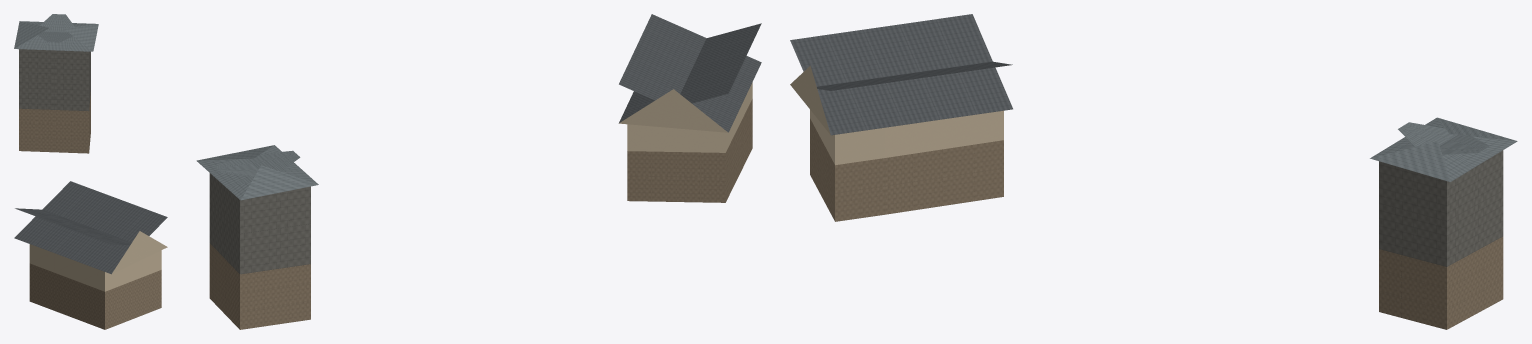
File: bld_c10_17_435.gltf
The picture shows the model from 3 angles, left to right: view 1: azimuth 30°, elevation 25°; view 2: azimuth 150°, elevation 25°; view 3: azimuth 270°, elevation 25°; orthographic projection. The views are drawn at different scales.
Visible parts, largest first — view 1: bld_c10_17_435; view 2: bld_c10_17_435; view 3: bld_c10_17_435.
Boxes of the visible parts, box(x1,y1,x2,y2) form: bld_c10_17_435: box(14, 14, 167, 329); bld_c10_17_435: box(196, 14, 761, 329); bld_c10_17_435: box(790, 14, 1517, 329).
Size of the model in its own units: 30.96 by 13.5 by 53.46.
6 materials, 6 textured.
